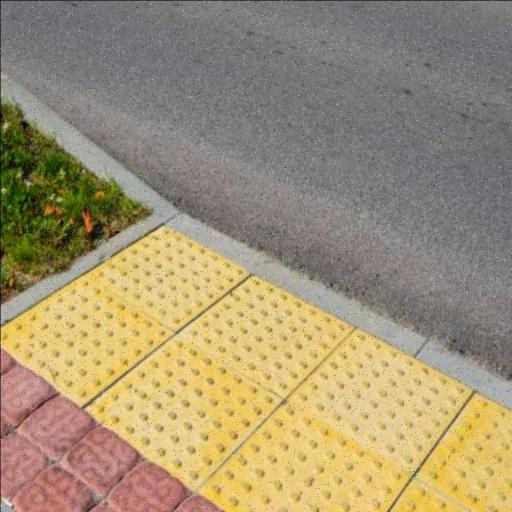dot: (86, 333, 282, 484), (285, 328, 470, 475), (1, 277, 173, 407), (177, 275, 354, 399), (88, 226, 249, 337)
